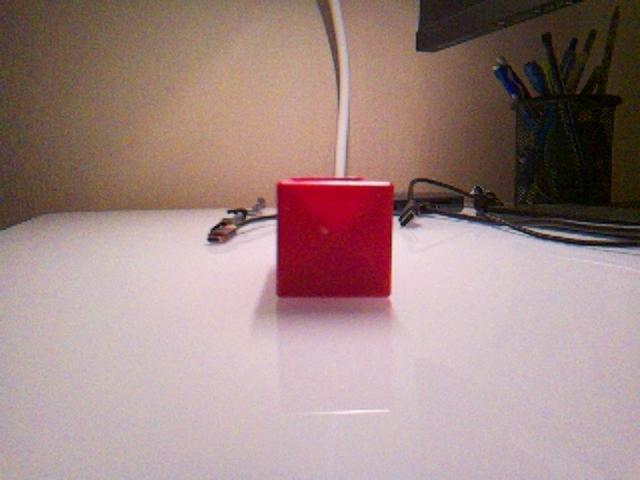red: (275, 175, 395, 299)
